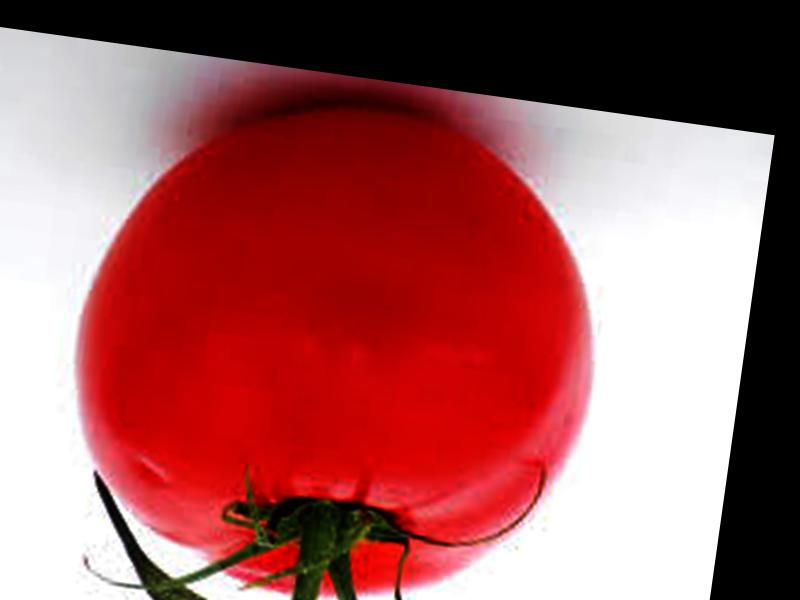Tomato: (52, 68, 630, 600)
